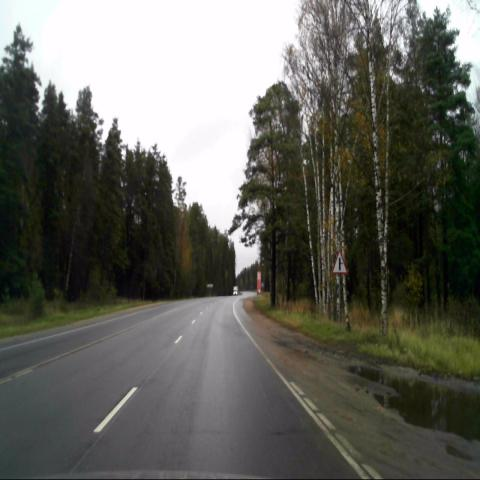2_3_2: (332, 249, 348, 275)
